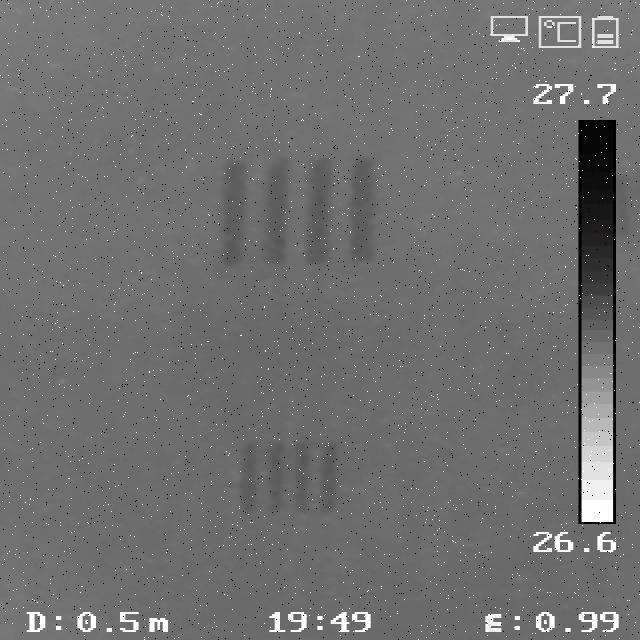threshold 4-bar target: (218, 155, 378, 265), (244, 442, 339, 511)
